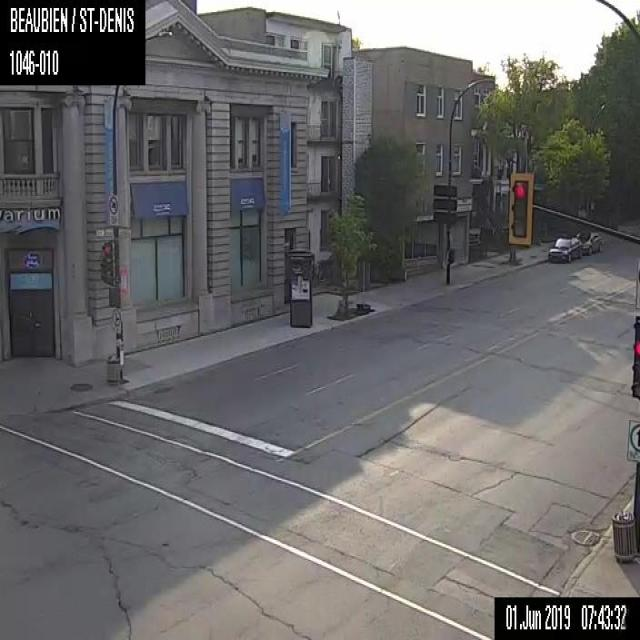vehicle: (548, 235, 582, 261), (575, 230, 597, 254)
